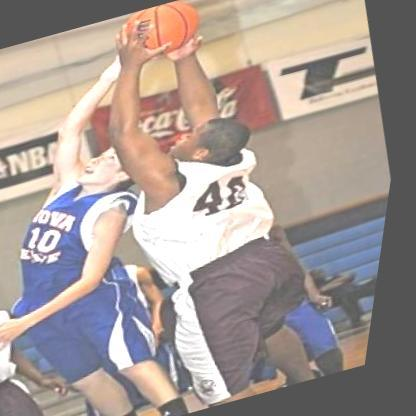basketball: (106, 0, 219, 72)
